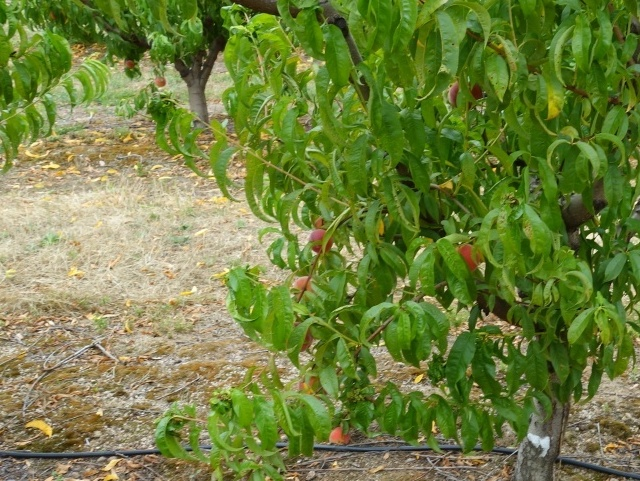peach: (447, 78, 484, 111), (451, 239, 484, 272), (306, 226, 334, 255), (288, 274, 318, 299), (326, 422, 352, 446)
